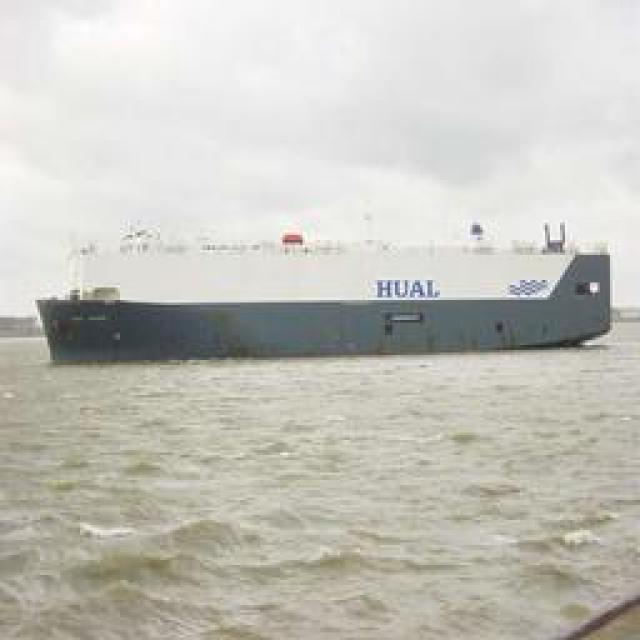Ship: (44, 233, 609, 361)
